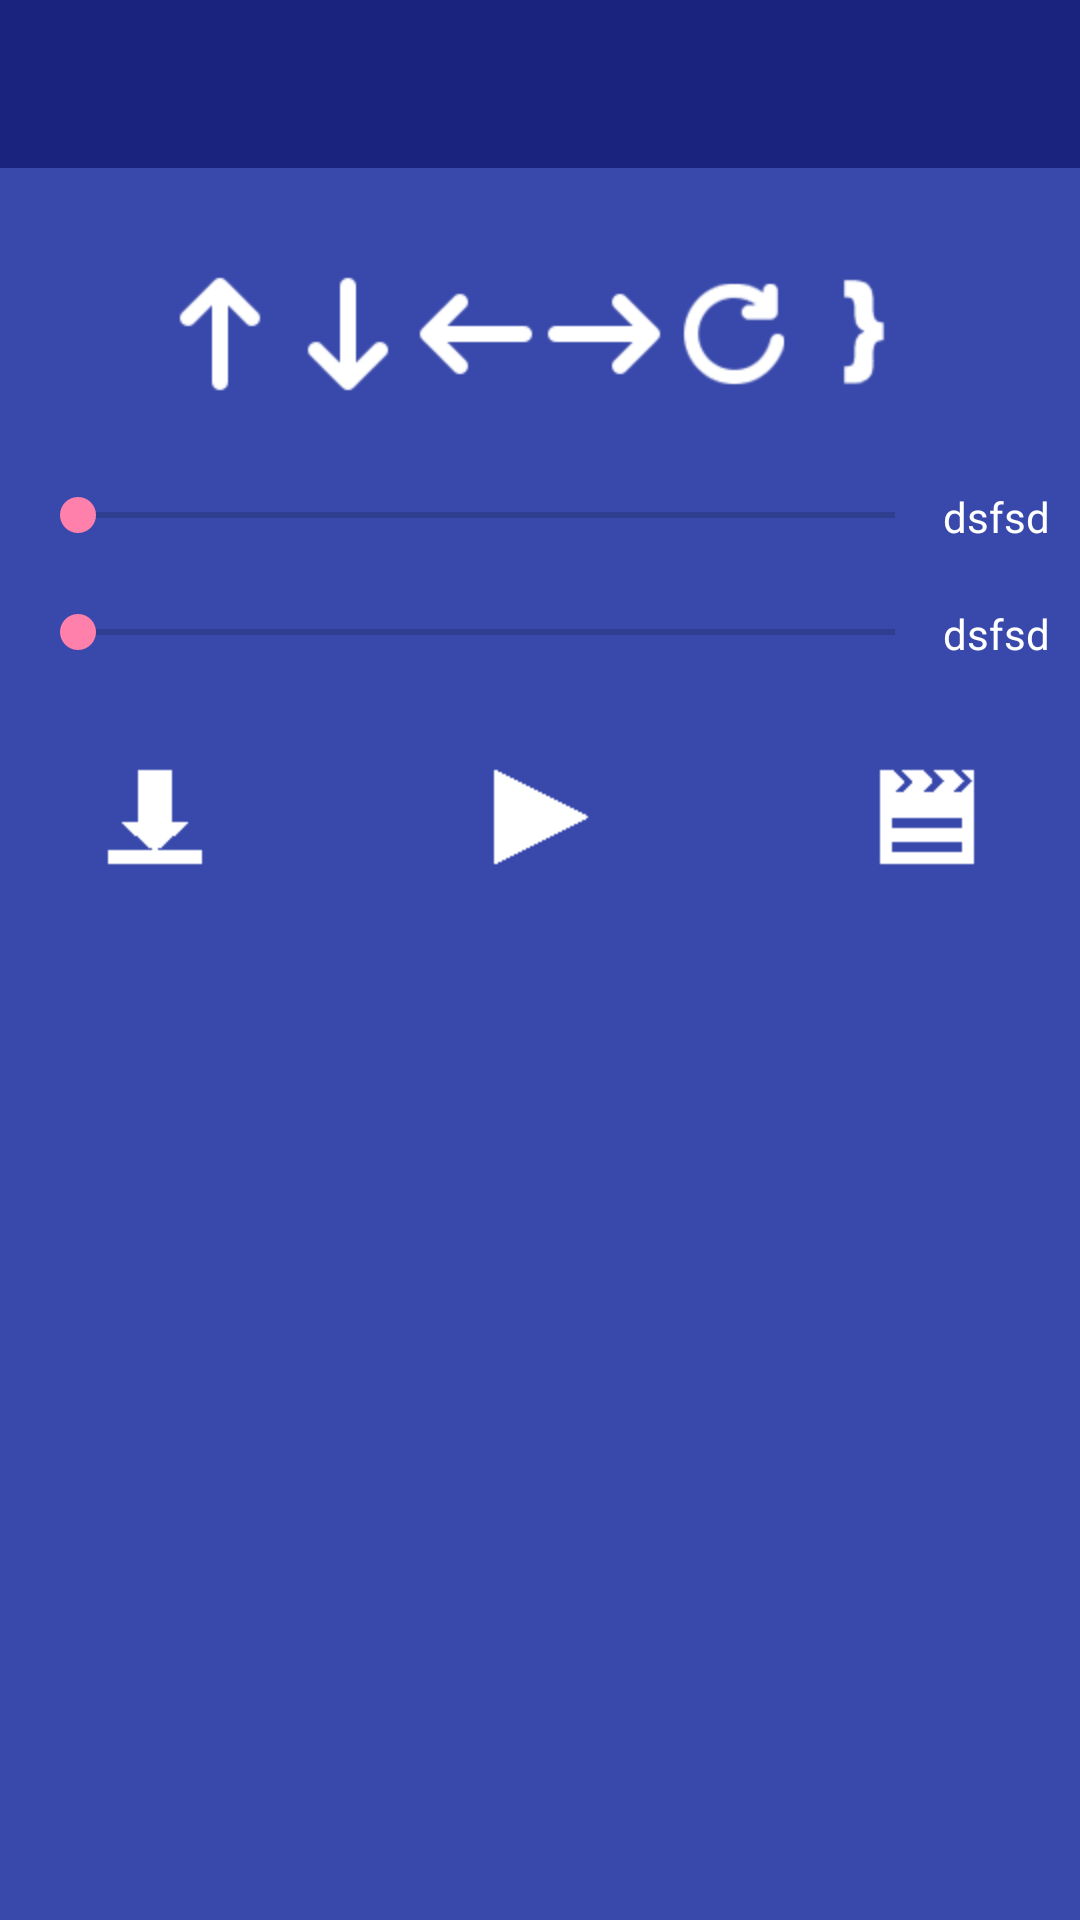

Point at icon controls on the screen. Image size 1080px×1920px, points as point (x, y).
brace: point (864, 332)
down: point (348, 334)
execute: point (541, 817)
left: point (476, 334)
load: point (155, 817)
repeat: point (734, 334)
right: point (604, 334)
